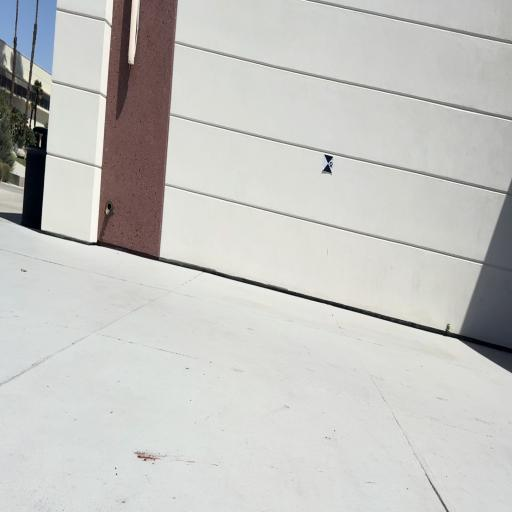target0: (322, 154, 334, 174)
